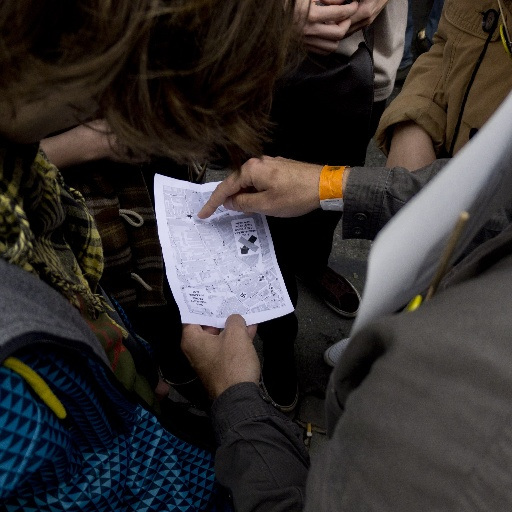hand: (196, 144, 346, 216), (178, 310, 259, 397), (282, 0, 358, 56), (320, 0, 390, 39), (75, 118, 130, 160), (384, 136, 435, 172)
